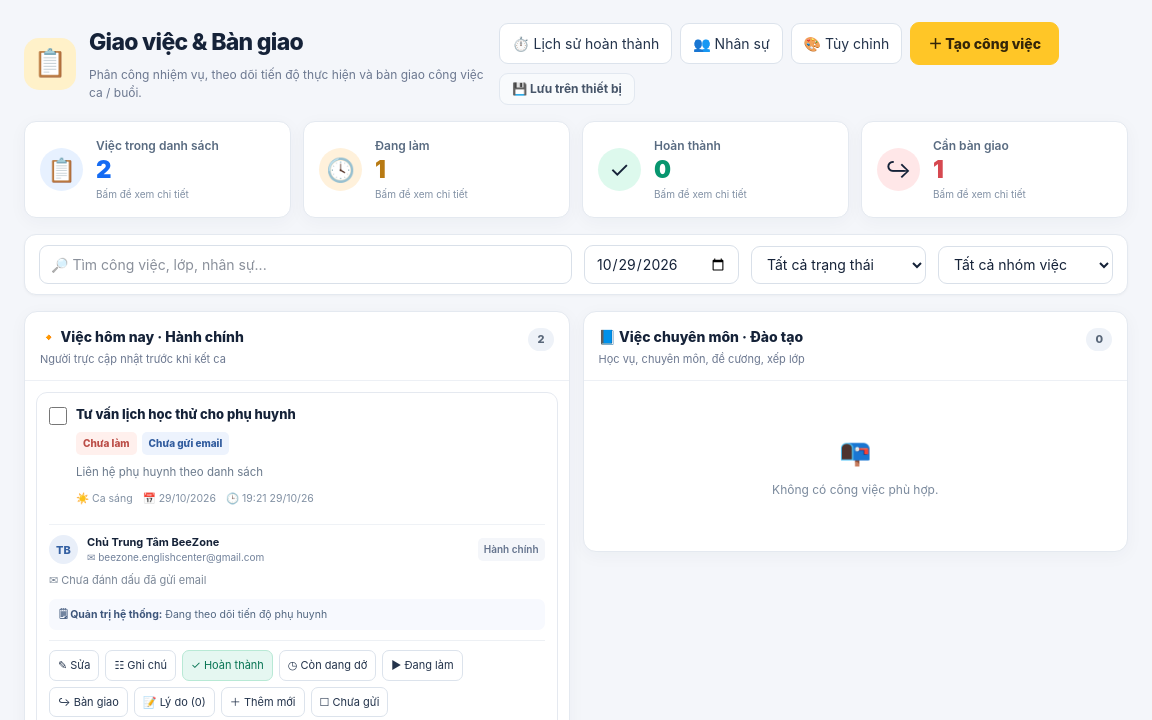
Test case: BeeZoneWork Module › allows adding a note to a task
Click the button "☷ Ghi chú": {"x": 141, "y": 666} [105,650,176,681]
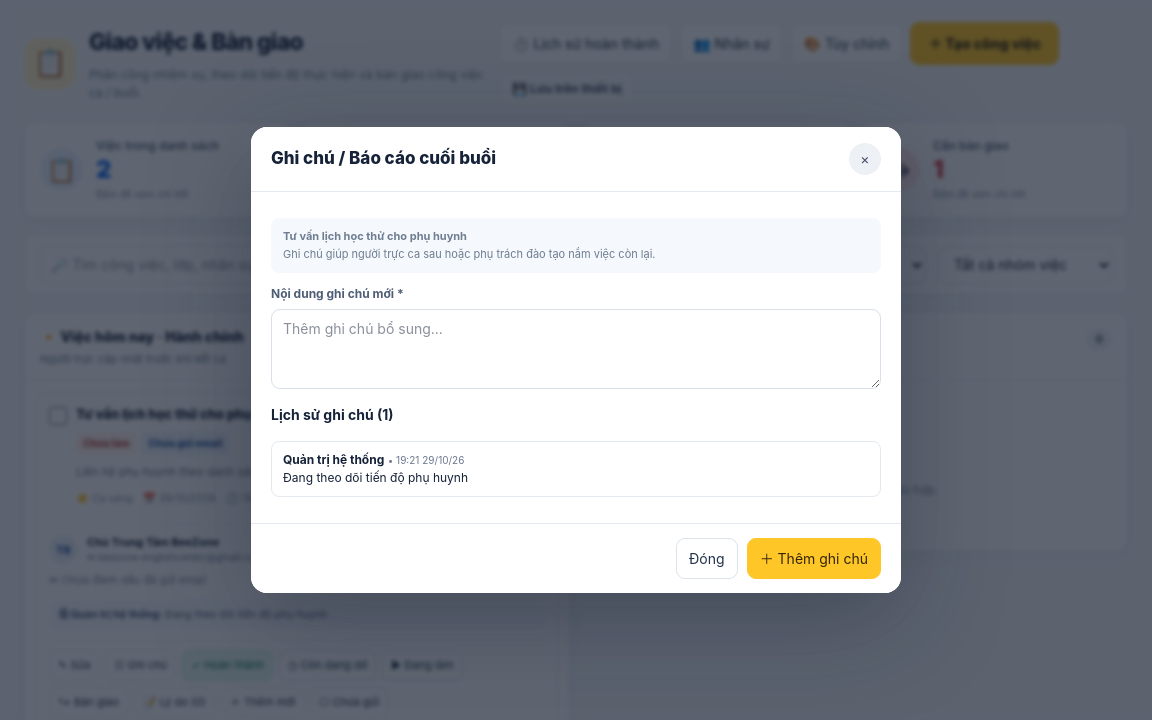
In the text box with placeholder "Thêm ghi chú bổ sung...": {"x": 576, "y": 349} [271,309,881,389], type "Học sinh Nguyễn Văn An đã nộp bài bù."
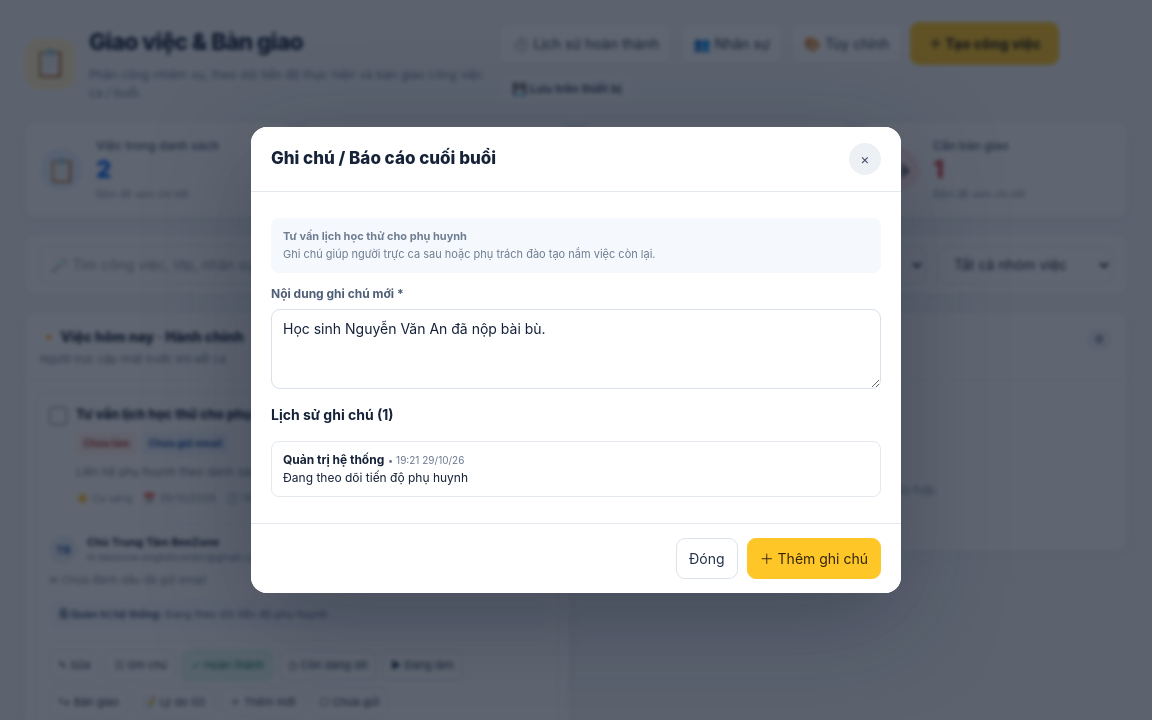
Click the button "＋ Thêm ghi chú": {"x": 814, "y": 559} [747,538,881,579]
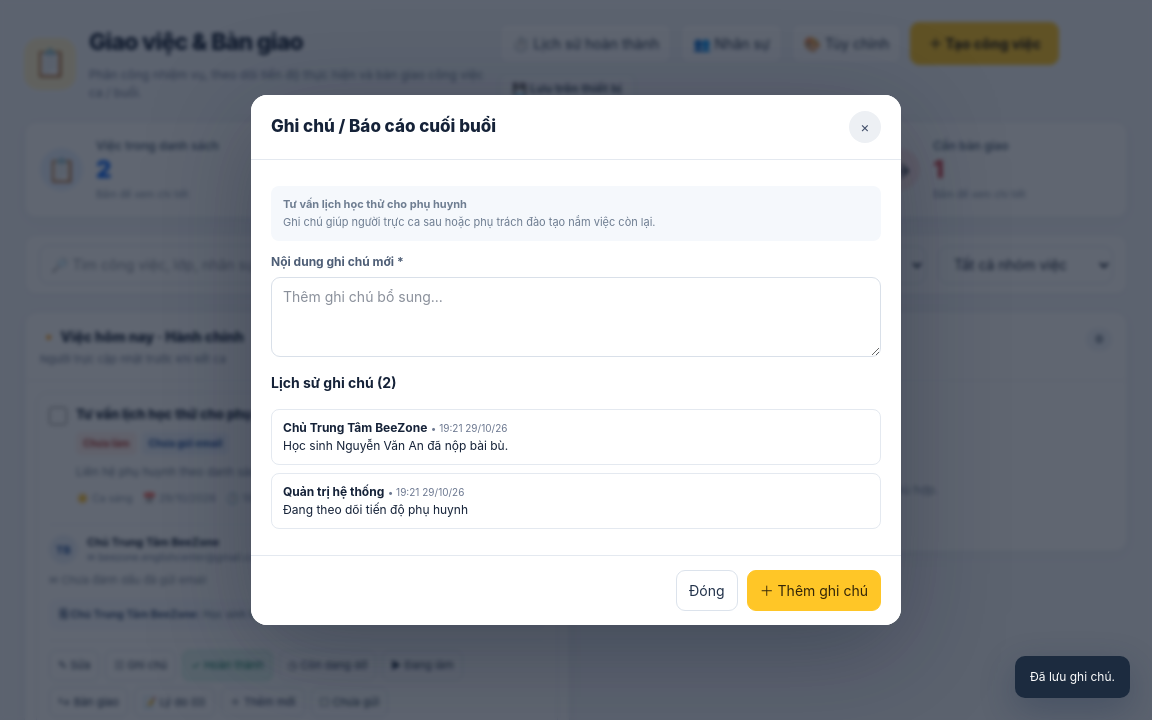
Expected: the text "Học sinh Nguyễn Văn An đã nộp bài bù" is shown, [203,608,400,620]
